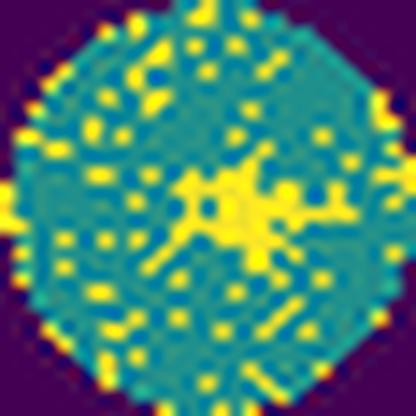Center: (145, 140, 362, 290)
